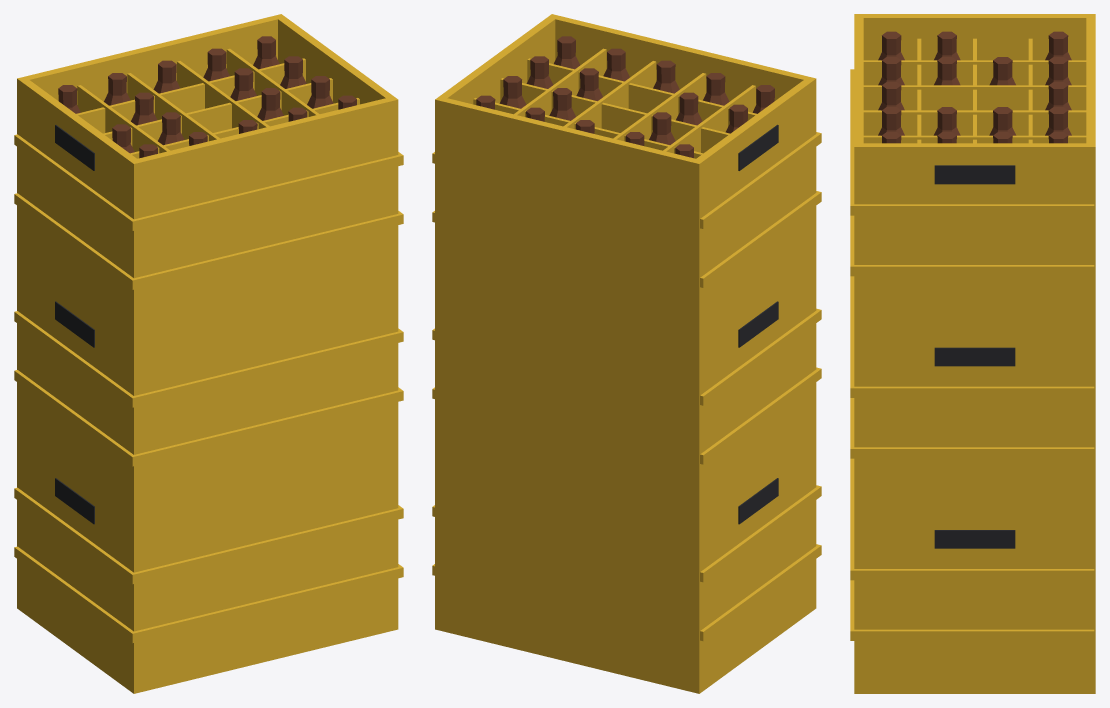
Rendered from SM_Street_BeerCrate_Yellow_3_01.gltf.
3 renders of one model, left to right at view 1: azimuth 30°, elevation 25°; view 2: azimuth 150°, elevation 25°; view 3: azimuth 270°, elevation 25°, orthographic. The views are drawn at different scales.
Parts seen in each view (by area): view 1: SM_Street_BeerCrate_Yellow_3_01; view 2: SM_Street_BeerCrate_Yellow_3_01; view 3: SM_Street_BeerCrate_Yellow_3_01.
Part boxes in pixels (x1,y1,x2,y2): SM_Street_BeerCrate_Yellow_3_01: (14,14,403,693); SM_Street_BeerCrate_Yellow_3_01: (432,14,821,693); SM_Street_BeerCrate_Yellow_3_01: (850,14,1095,693).
Size of the model in its own units: 0.482 by 0.9 by 0.366.
Materials: 1 (1 with a texture image).
